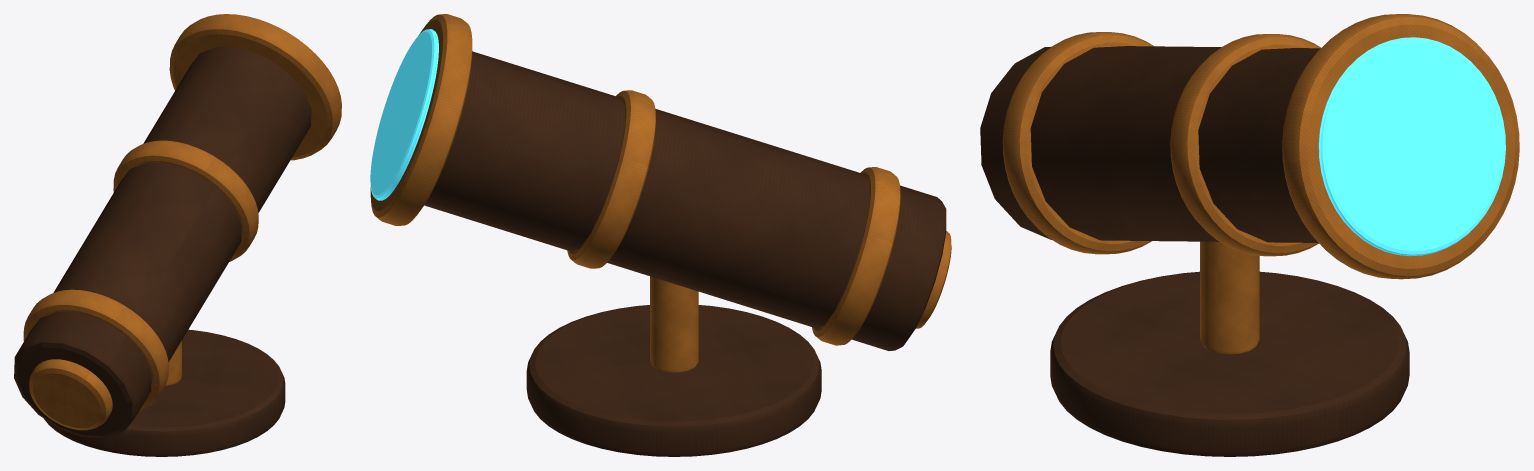
Rendered from relic_06.glb.
3 renders of one model, left to right at view 1: azimuth 30°, elevation 25°; view 2: azimuth 150°, elevation 25°; view 3: azimuth 270°, elevation 25°, orthographic. The views are drawn at different scales.
Parts seen in each view (by area): view 1: Patinated_bronze, Brushed_gold; view 2: Patinated_bronze, Brushed_gold, Luminous_aquamarine; view 3: Patinated_bronze, Brushed_gold, Luminous_aquamarine.
Boxes of the visible parts, bbox=[...] form: Patinated_bronze: bbox=[14, 47, 311, 456]; Brushed_gold: bbox=[23, 14, 341, 430]; Patinated_bronze: bbox=[424, 51, 946, 456]; Brushed_gold: bbox=[370, 14, 951, 372]; Luminous_aquamarine: bbox=[370, 29, 438, 200]; Patinated_bronze: bbox=[980, 46, 1409, 456]; Brushed_gold: bbox=[1002, 14, 1519, 354]; Luminous_aquamarine: bbox=[1318, 37, 1505, 256].
Size of the model in its own units: 0.7681 by 0.5962 by 0.6307.
3 materials, 2 textured.
